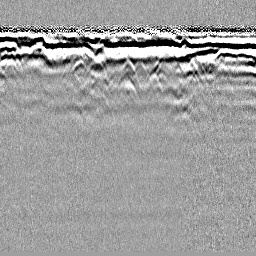cavity: (120, 59, 135, 75)
